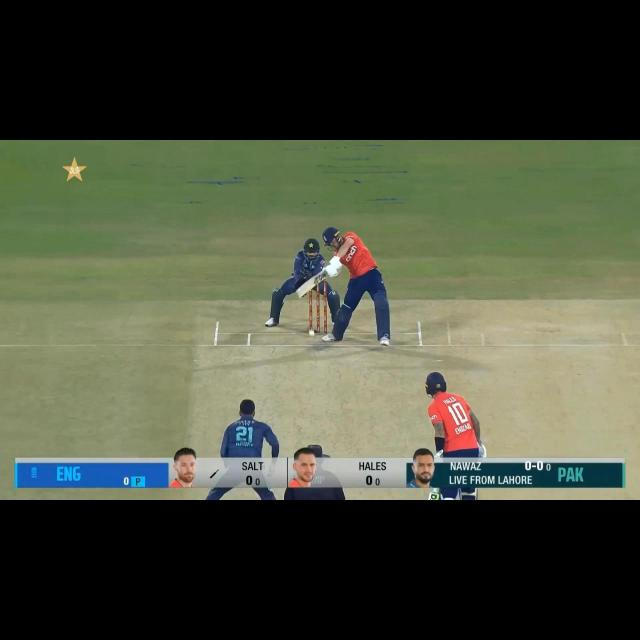bat: (297, 270, 330, 298), (426, 490, 440, 500)
toe: (295, 289, 302, 300)
